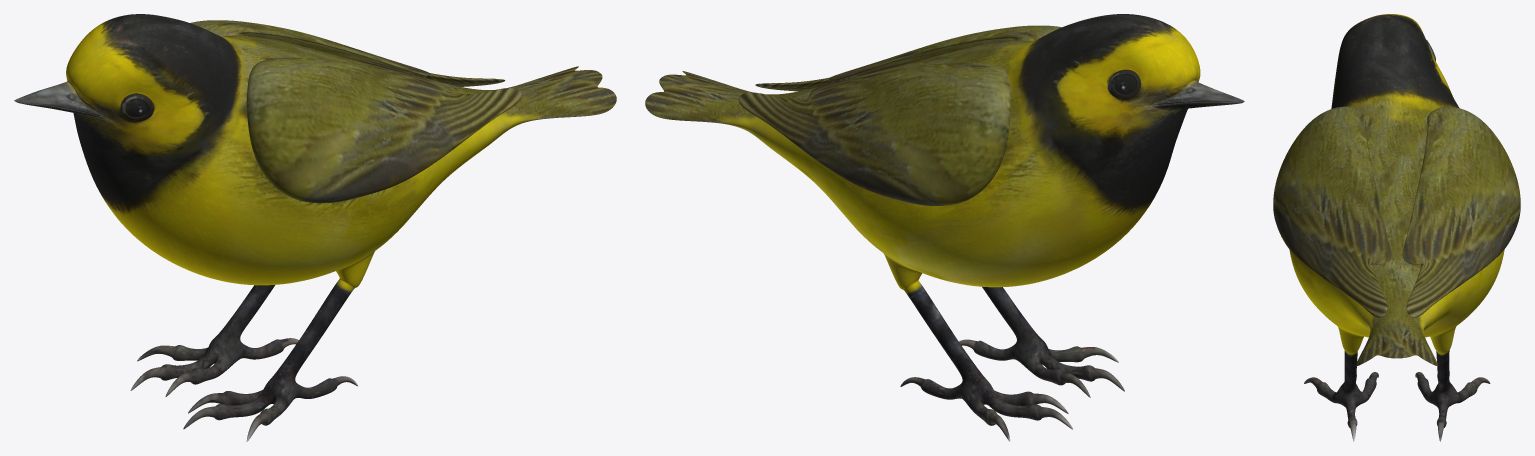
Rendered from bird.gltf.
The picture shows the model from 3 angles, left to right: view 1: azimuth 30°, elevation 25°; view 2: azimuth 150°, elevation 25°; view 3: azimuth 270°, elevation 25°; orthographic projection. The views are drawn at different scales.
Visible parts, largest first — view 1: 12214_Bird_v1max_l3; view 2: 12214_Bird_v1max_l3; view 3: 12214_Bird_v1max_l3.
Part boxes in pixels (box(x1,y1,x2,y2)): 12214_Bird_v1max_l3: box(14, 14, 616, 441); 12214_Bird_v1max_l3: box(645, 14, 1244, 441); 12214_Bird_v1max_l3: box(1273, 14, 1520, 441).
Size of the model in its own units: 14.17 by 9.17 by 6.11.
1 material, 1 textured.
